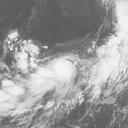cyclone: (36, 56, 83, 97)
